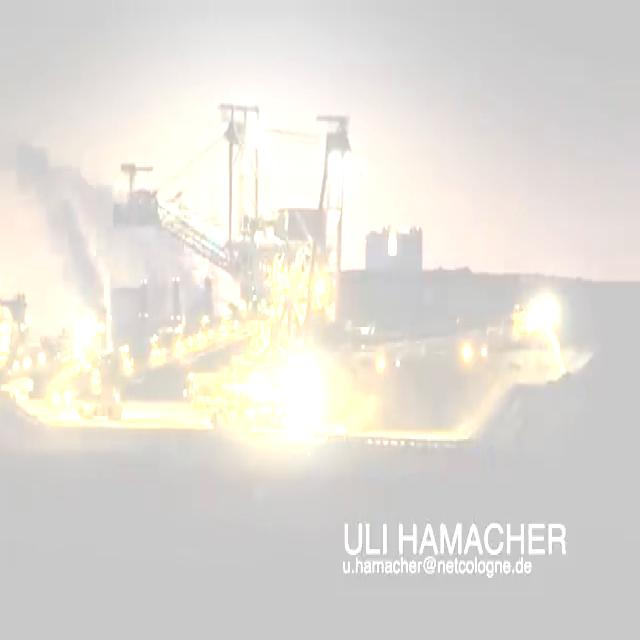smoke: (0, 135, 196, 343)
